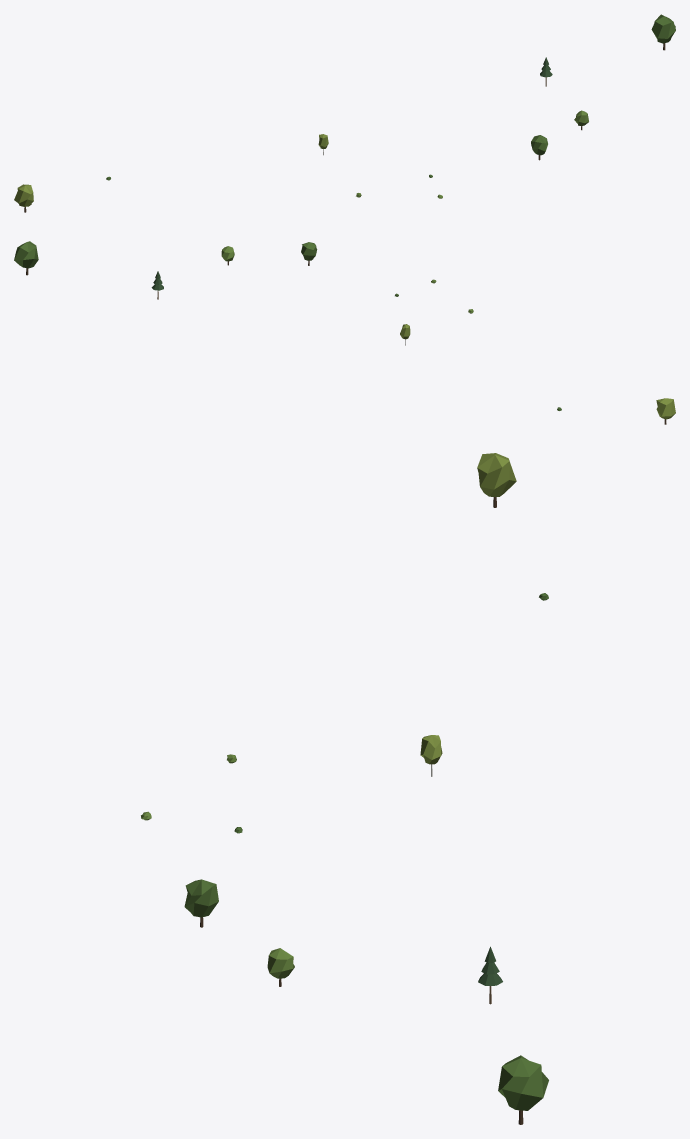
The model's file is Natura_1_4.fbx.
The picture shows the model from 3 angles, top to bottom: view 1: azimuth 30°, elevation 25°; view 2: azimuth 150°, elevation 25°; view 3: azimuth 270°, elevation 25°; orthographic projection. The views are drawn at different scales.
Visible parts, largest first — view 1: Drzewo_3813, Drzewo_3814; view 2: Drzewo_3813, Drzewo_3814; view 3: Drzewo_3813, Drzewo_3814, Drzewo_3818.
Boxes of the visible parts, left/top/right/bottom form: Drzewo_3813: left=651, top=14, right=675, bottom=50; Drzewo_3814: left=14, top=184, right=33, bottom=212; Drzewo_3813: left=14, top=241, right=38, bottom=275; Drzewo_3814: left=656, top=398, right=675, bottom=424; Drzewo_3813: left=498, top=1055, right=548, bottom=1124; Drzewo_3814: left=477, top=453, right=516, bottom=507; Drzewo_3818: left=184, top=879, right=218, bottom=927.
Bounding box in the file's own units: 260 × 12.68 × 70.53.
